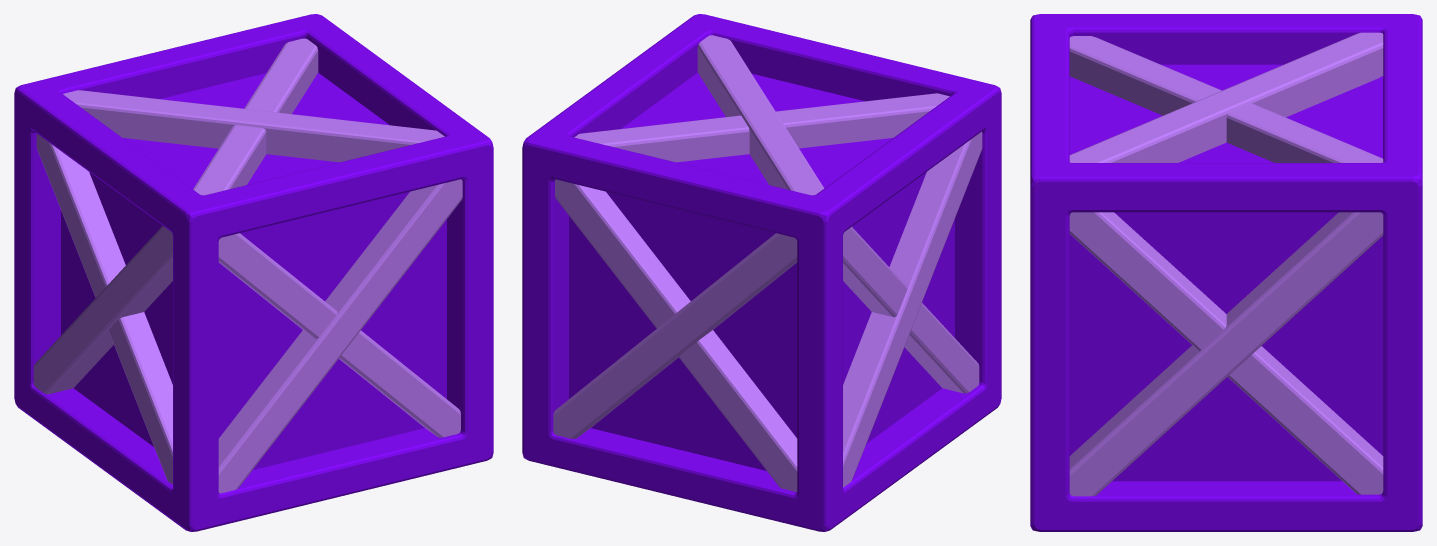
Rendered from Crate_Motherboard.fbx.
The picture shows the model from 3 angles, left to right: view 1: azimuth 30°, elevation 25°; view 2: azimuth 150°, elevation 25°; view 3: azimuth 270°, elevation 25°; orthographic projection. The views are drawn at different scales.
Parts seen in each view (by area): view 1: Crate Motherboard; view 2: Crate Motherboard; view 3: Crate Motherboard.
Boxes of the visible parts, x1,y1,x2,y2 form: Crate Motherboard: (14, 14, 493, 531); Crate Motherboard: (522, 14, 1001, 531); Crate Motherboard: (1030, 14, 1422, 531).
Size of the model in its own units: 100 by 100 by 100.
